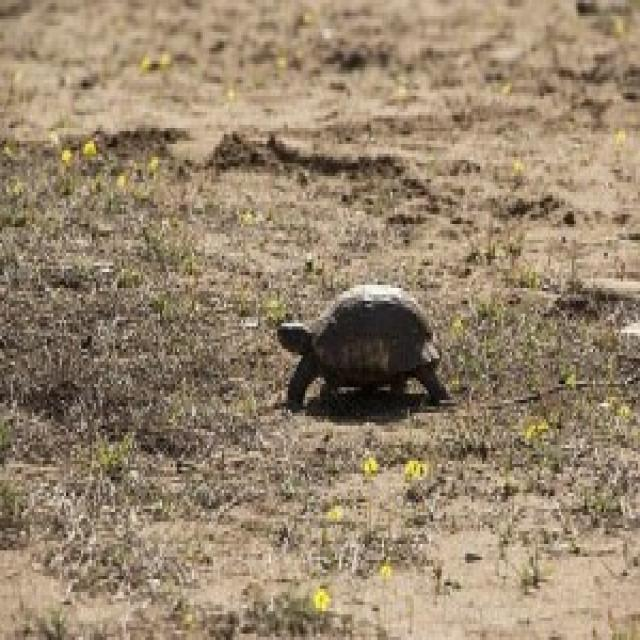Sea turtle: (259, 286, 445, 456)
